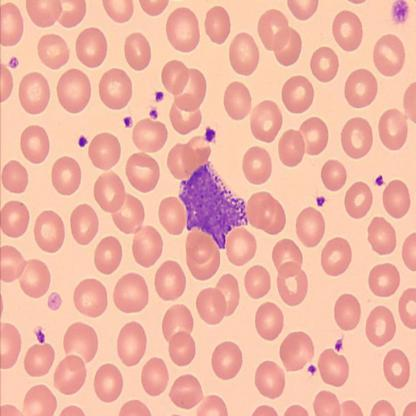Myelocyte: (181, 162, 248, 247)
